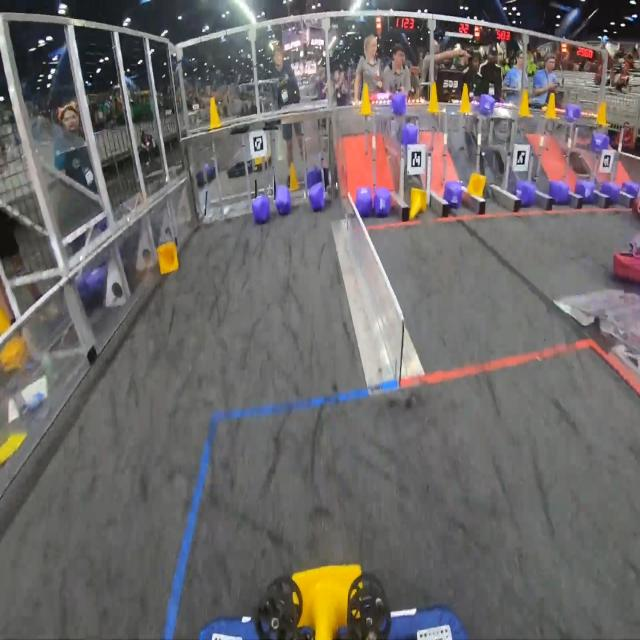robot: (613, 236, 640, 285)
